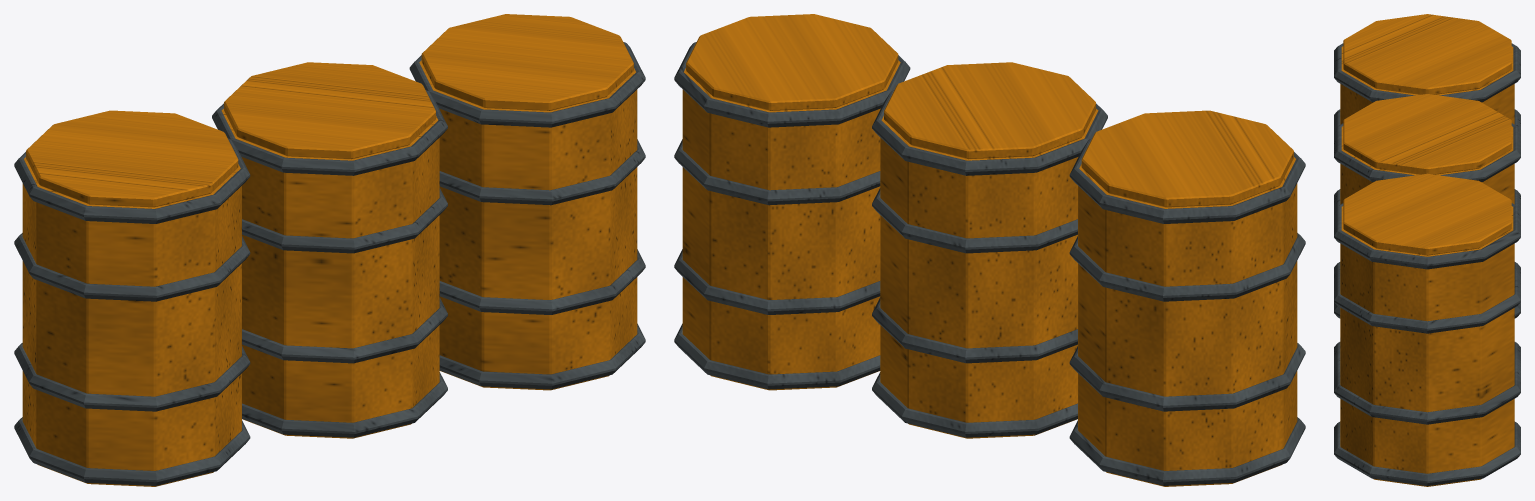
The model's file is PROP-5F26DBB829FB_lod1.glb.
The picture shows the model from 3 angles, left to right: view 1: azimuth 30°, elevation 25°; view 2: azimuth 150°, elevation 25°; view 3: azimuth 270°, elevation 25°; orthographic projection. The views are drawn at different scales.
Parts seen in each view (by area): view 1: barrel_body.002, barrel_lid.002, barrel_ribs.002; view 2: barrel_body.002, barrel_lid.002, barrel_ribs.002; view 3: barrel_body.002, barrel_lid.002, barrel_ribs.002.
Part boxes in pixels (x1,y1,x2,y2): barrel_body.002: [22, 60, 637, 486]; barrel_lid.002: [26, 14, 633, 207]; barrel_ribs.002: [14, 42, 645, 485]; barrel_body.002: [682, 60, 1297, 486]; barrel_lid.002: [686, 14, 1293, 207]; barrel_ribs.002: [674, 42, 1305, 485]; barrel_body.002: [1340, 46, 1514, 486]; barrel_lid.002: [1343, 14, 1511, 255]; barrel_ribs.002: [1334, 43, 1520, 486].
Size of the model in its own units: 1.95 by 0.89 by 0.6327.
Materials: 2 (2 with a texture image).
